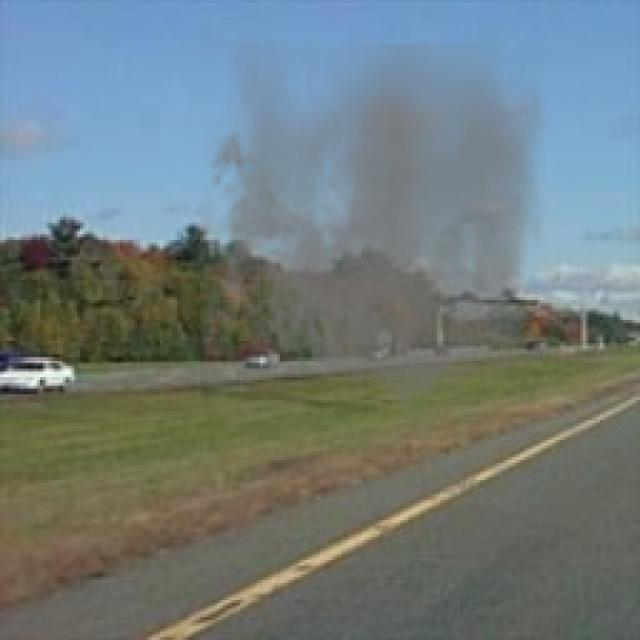Smoke: (200, 43, 546, 426)
